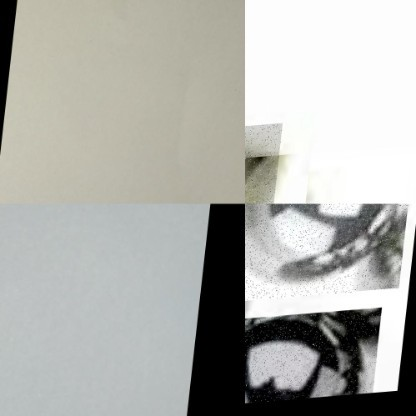ironball: (245, 203, 410, 305), (245, 312, 385, 409)
